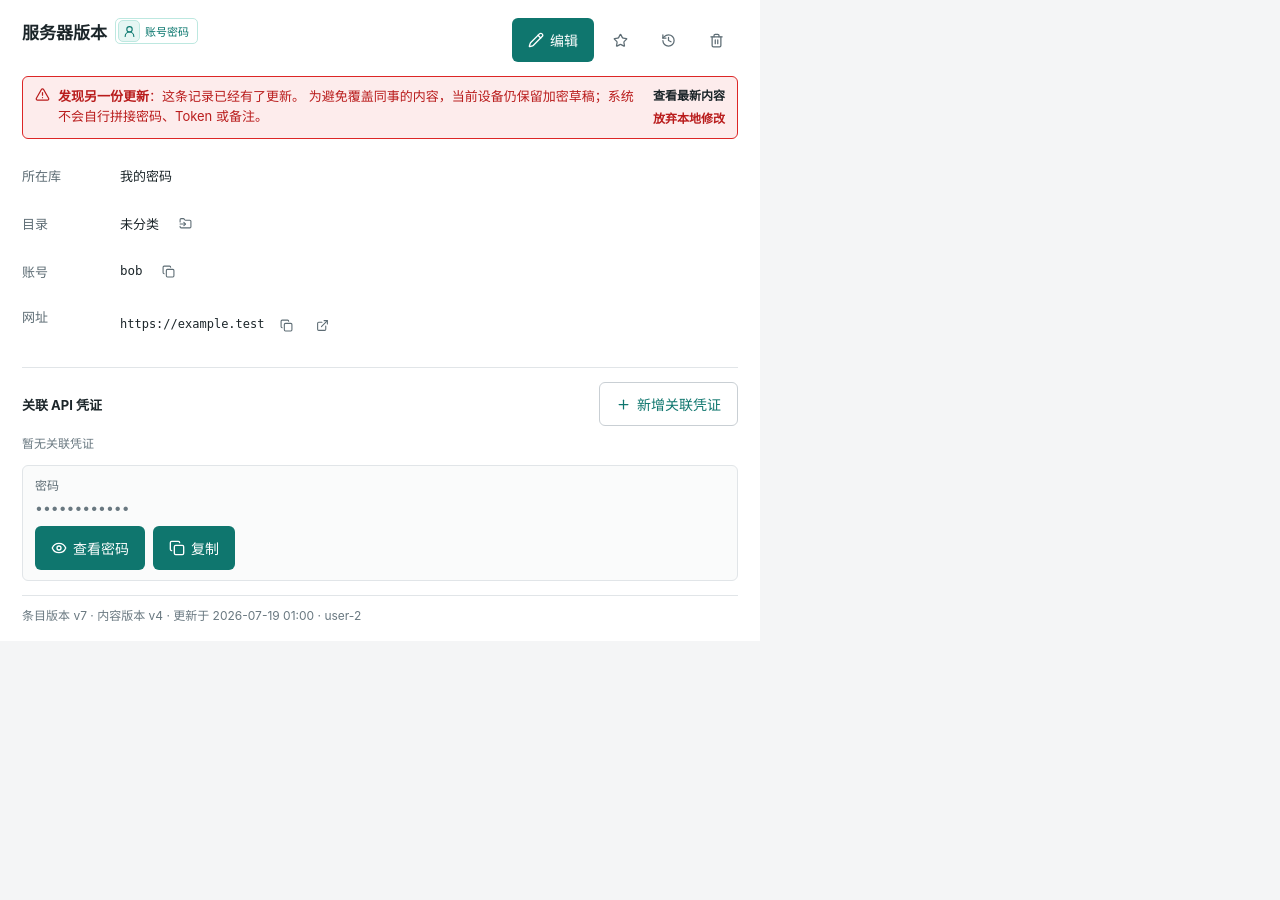
Test case: ItemDetail encrypted conflict resolution › only removes the candidate after the user explicitly chooses to discard it
Click the button "放弃本地修改".
click(689, 119)  # box 653,110 -> 725,128
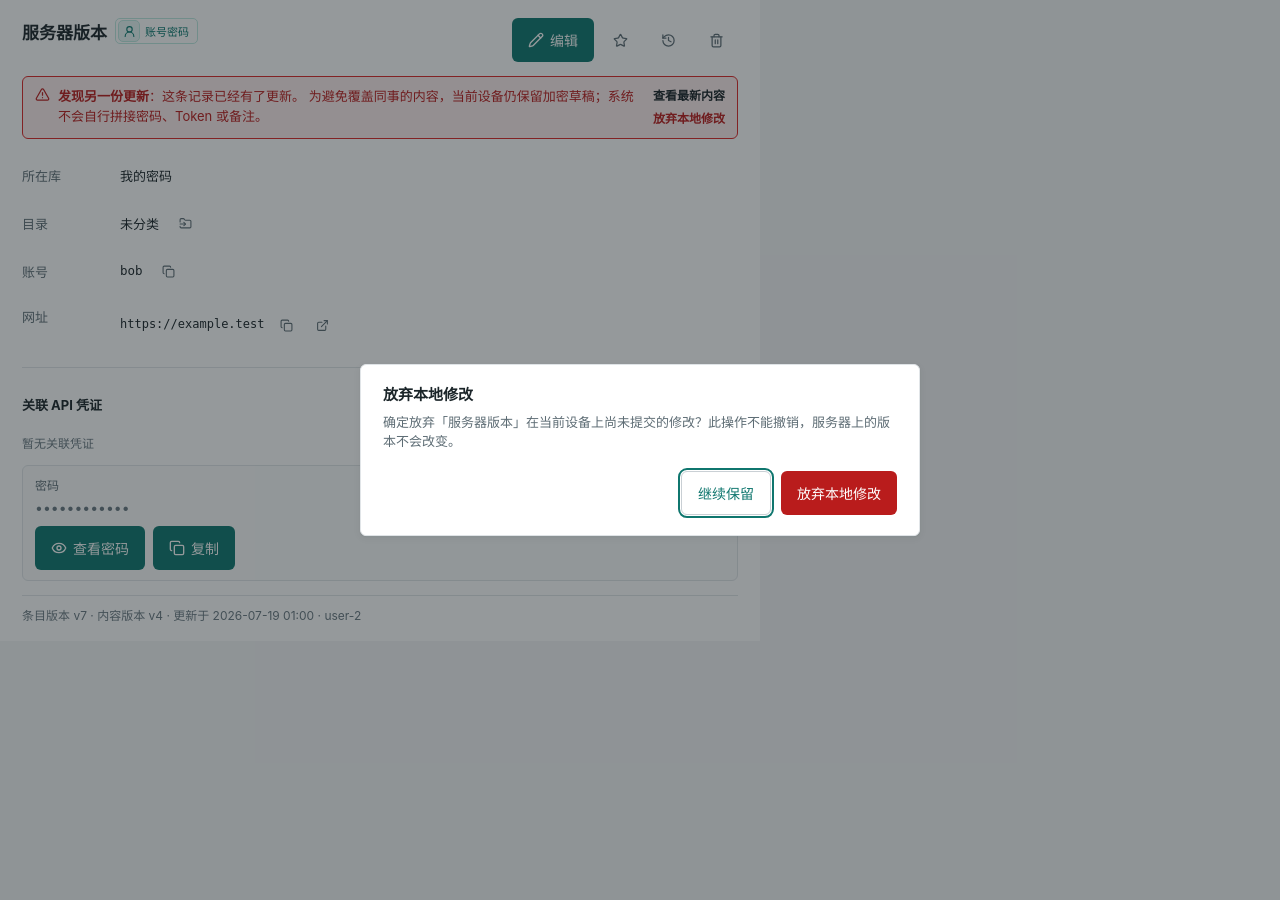
Check: the text "确定放弃「服务器版本」在当前设备上尚未提交的修改？此操作不能撤销，服务器上的版本不会改变。" is shown, box 383,413 -> 897,451
Click the button "放弃本地修改".
click(839, 493)  # box 781,471 -> 897,515
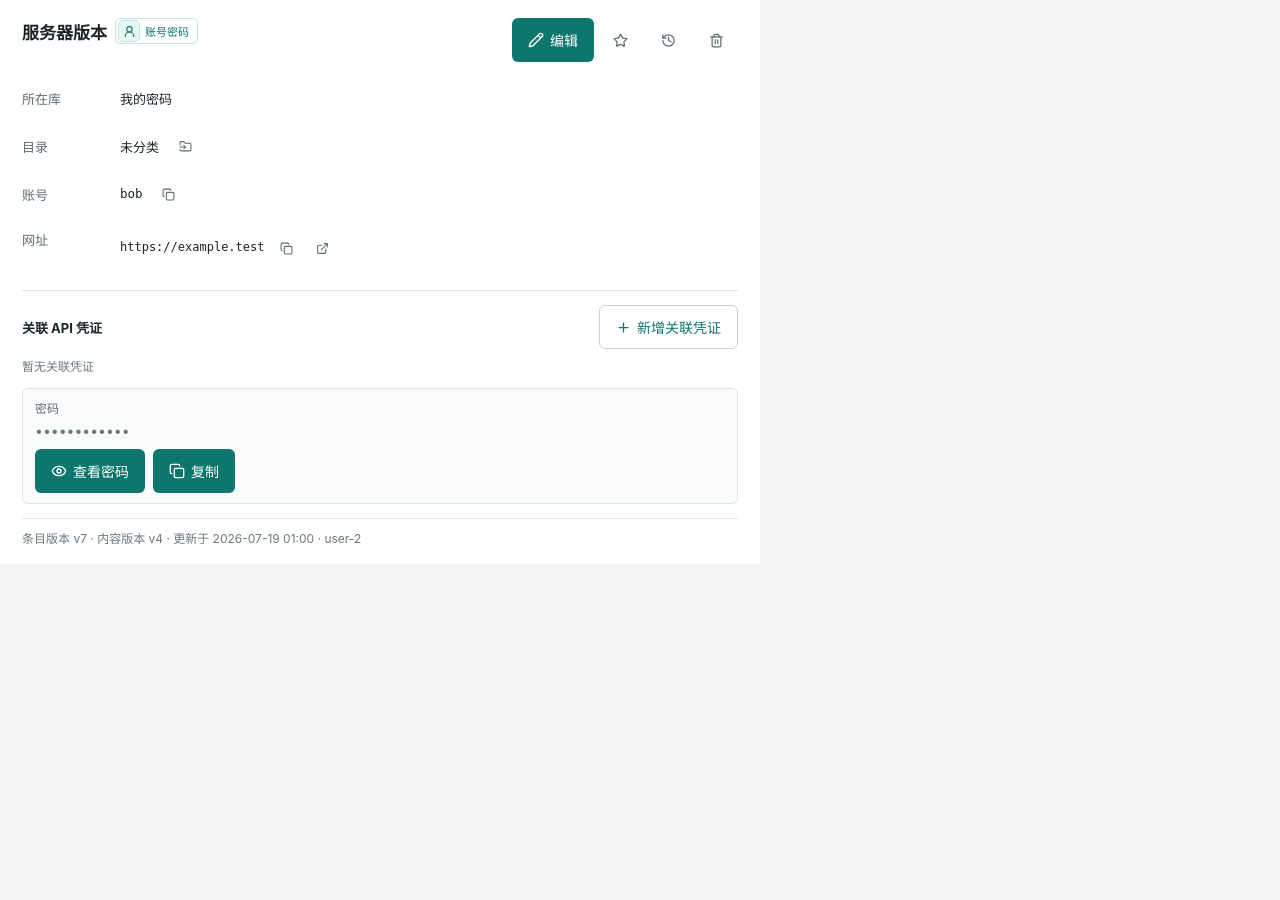
Check: the text "当前设备仍保留加密草稿" is gone
